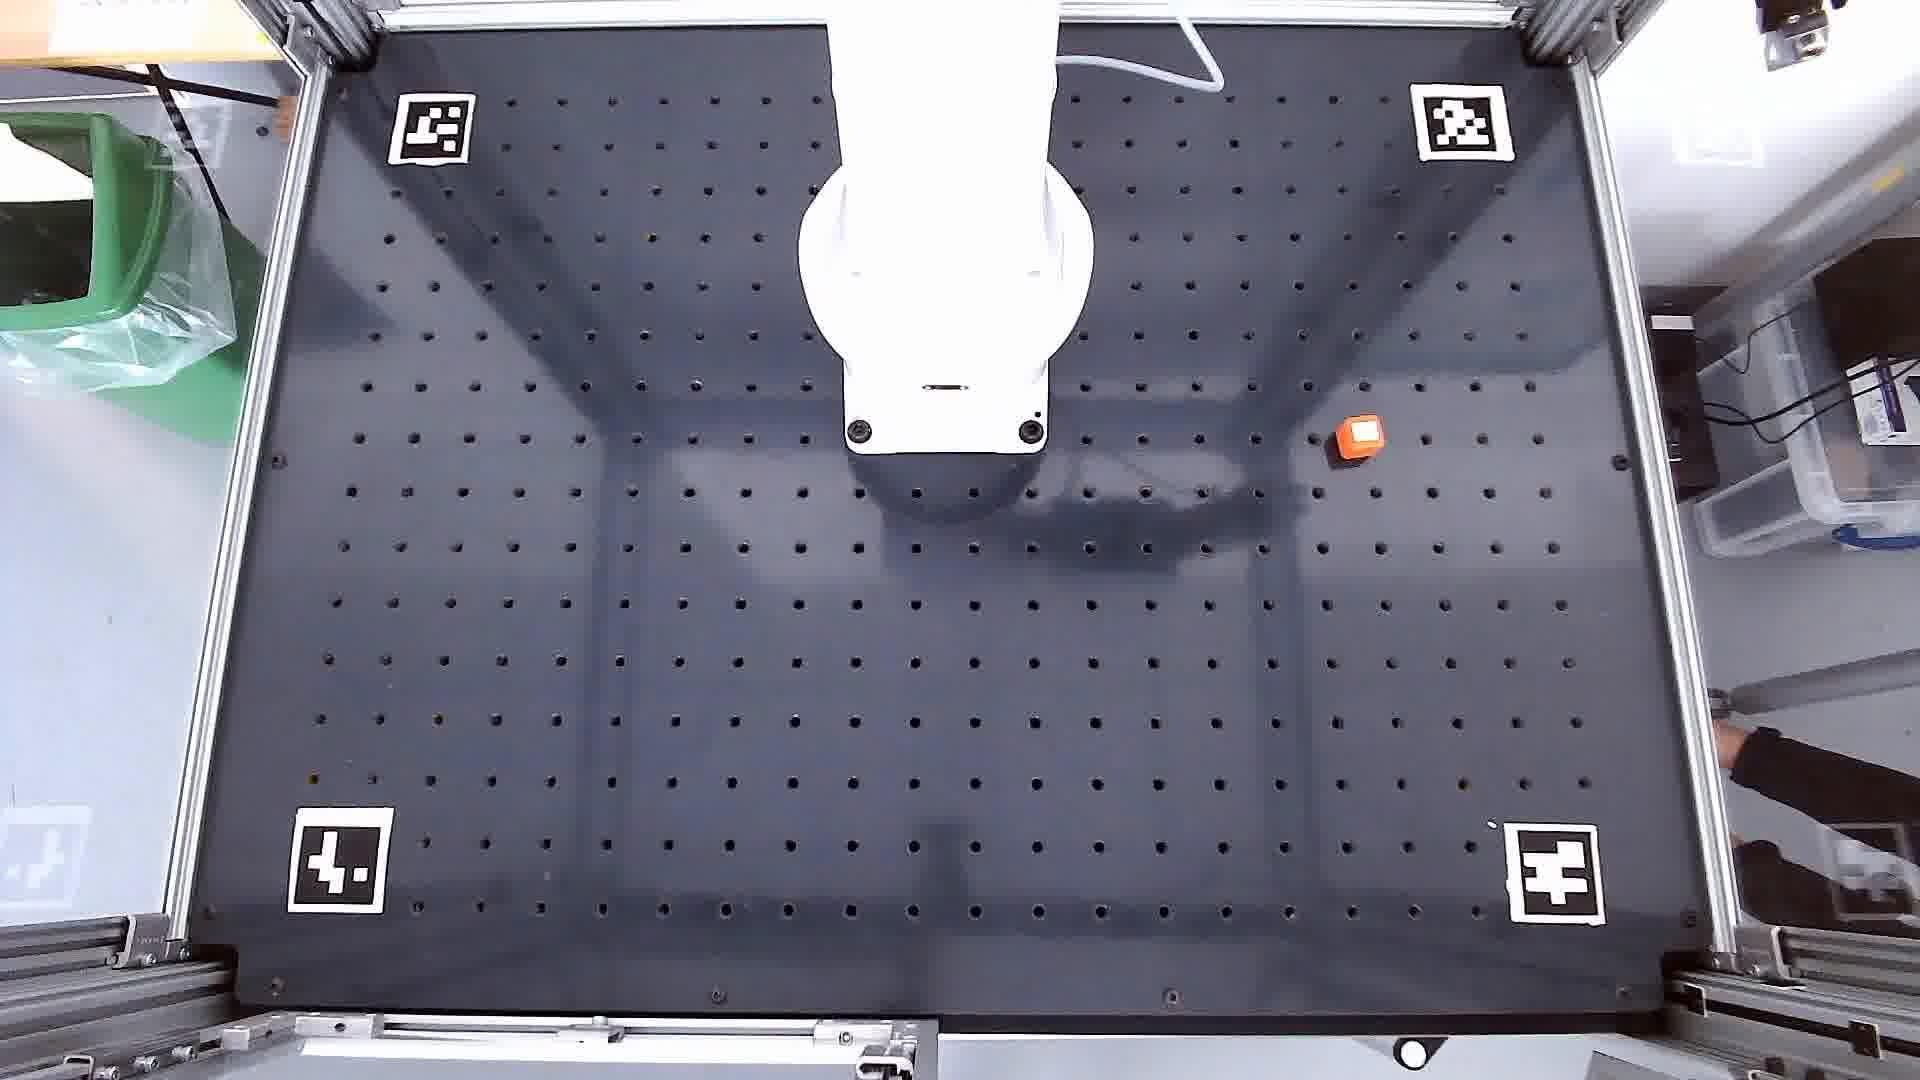sticker: (1335, 410, 1390, 464)
white: (1348, 419, 1381, 443)
